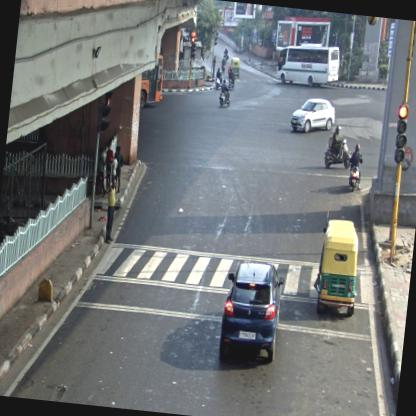bus: (274, 39, 342, 89)
car: (218, 258, 285, 363), (289, 95, 336, 136)
motorcycle: (323, 122, 354, 171), (348, 142, 365, 192), (218, 78, 232, 108), (228, 66, 236, 92)
